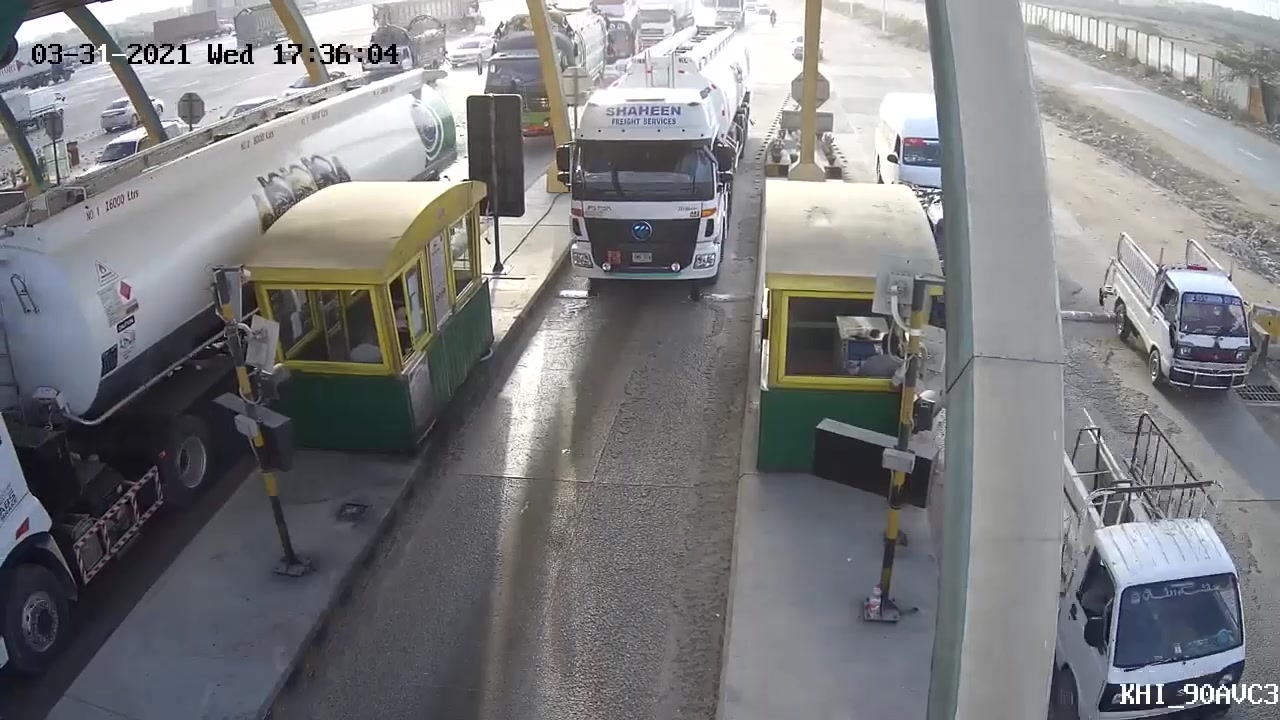F6: (561, 19, 759, 298)
